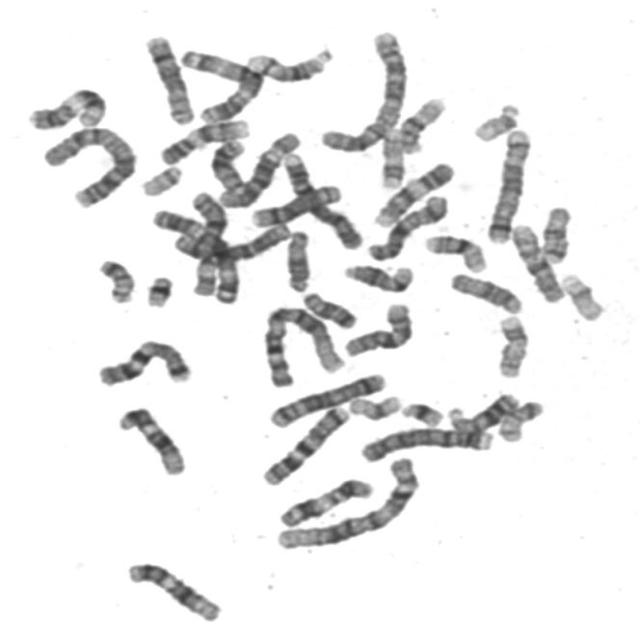A1: (269, 448, 422, 552), (256, 299, 347, 389)
A2: (314, 25, 411, 154), (34, 120, 139, 209)
A3: (145, 203, 243, 305), (174, 43, 266, 125)
B4: (277, 147, 367, 251), (353, 421, 498, 464)
B5: (263, 368, 390, 430), (480, 122, 535, 245)
C10: (505, 218, 567, 304), (338, 296, 416, 358)
C11: (271, 471, 376, 531), (20, 82, 109, 131)
C12: (119, 555, 224, 625), (111, 400, 188, 477)
C6: (211, 126, 303, 210), (167, 218, 292, 265)
C7: (255, 400, 353, 487), (90, 333, 194, 388)
C8: (137, 29, 195, 126), (245, 178, 345, 229)
C9: (367, 156, 457, 229), (154, 114, 254, 166)
D13: (442, 388, 522, 436), (205, 135, 249, 193)
D14: (240, 42, 335, 84), (336, 257, 416, 294)
D15: (444, 266, 526, 316), (280, 224, 314, 294)
E16: (392, 91, 448, 154), (418, 229, 490, 274)
E17: (489, 310, 531, 380), (375, 126, 407, 190)
E18: (296, 286, 358, 330), (534, 201, 573, 265)
F19: (555, 267, 608, 323), (342, 389, 405, 422)
F20: (492, 394, 548, 444), (91, 253, 138, 305), (189, 189, 228, 236), (192, 251, 224, 299)
G21: (395, 395, 445, 428), (139, 269, 175, 309)
G22: (466, 97, 522, 143), (134, 159, 184, 197)
X: (361, 188, 451, 264)
